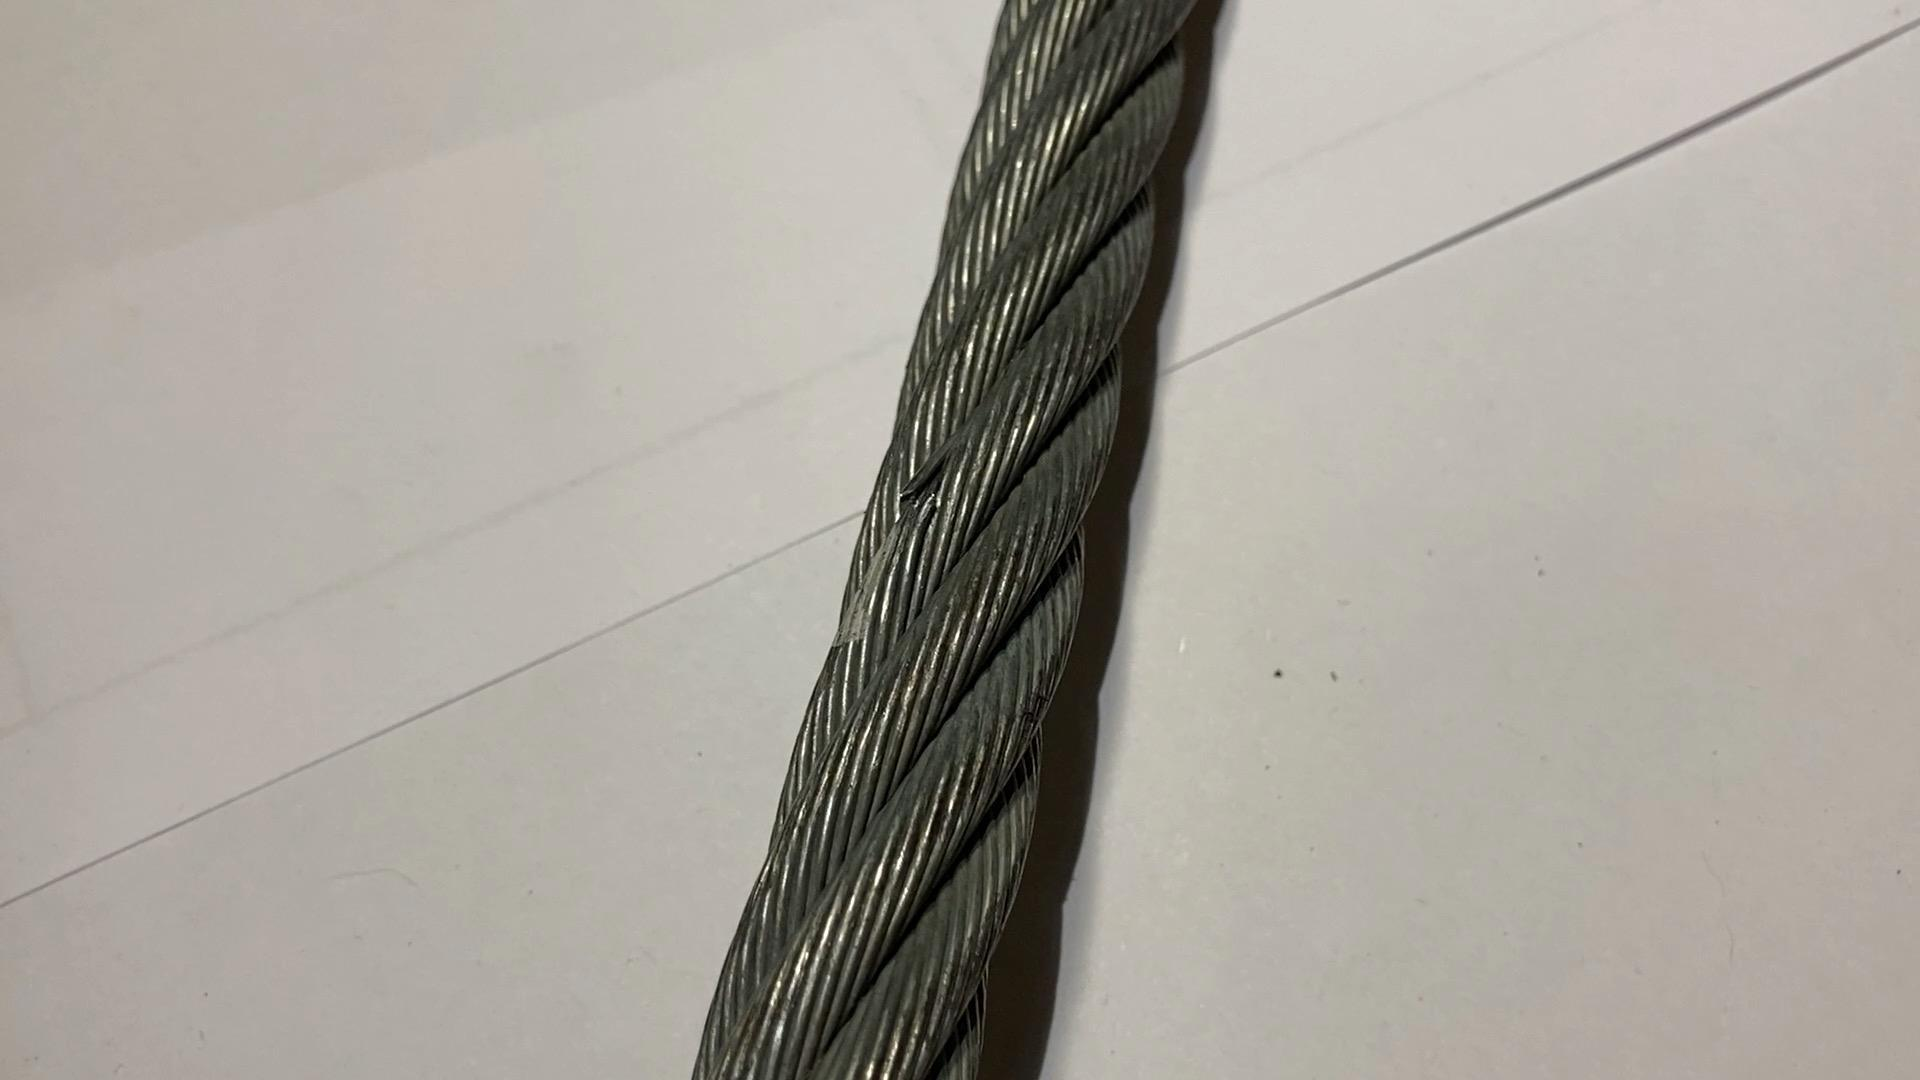break: (882, 454, 969, 538)
